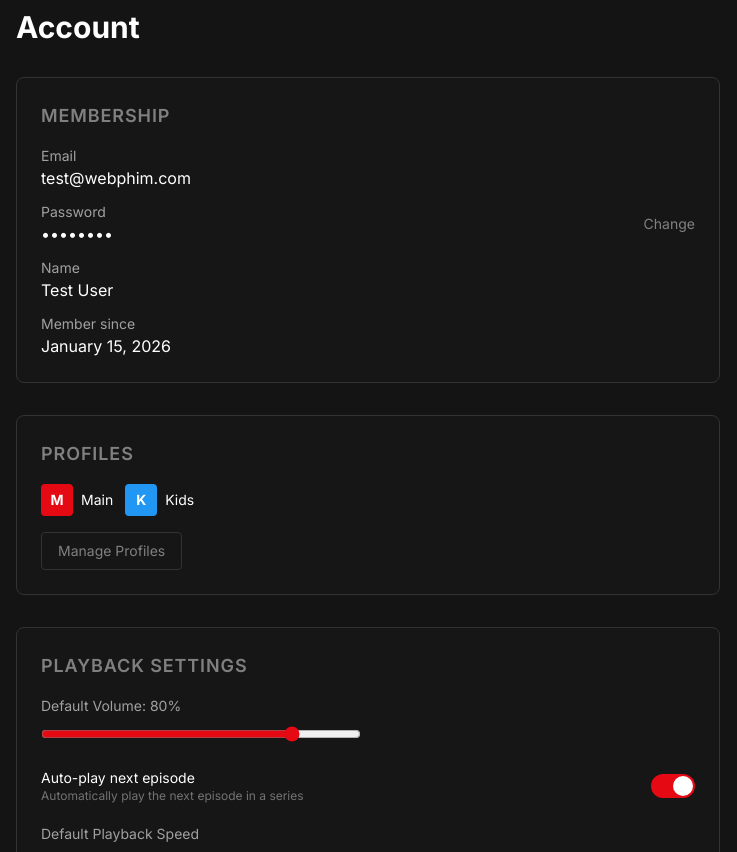
Scenario: AccountPage › shows API error message on failure
Click the button with test id "change-password-toggle" at (669, 224), box [644, 214, 695, 234]
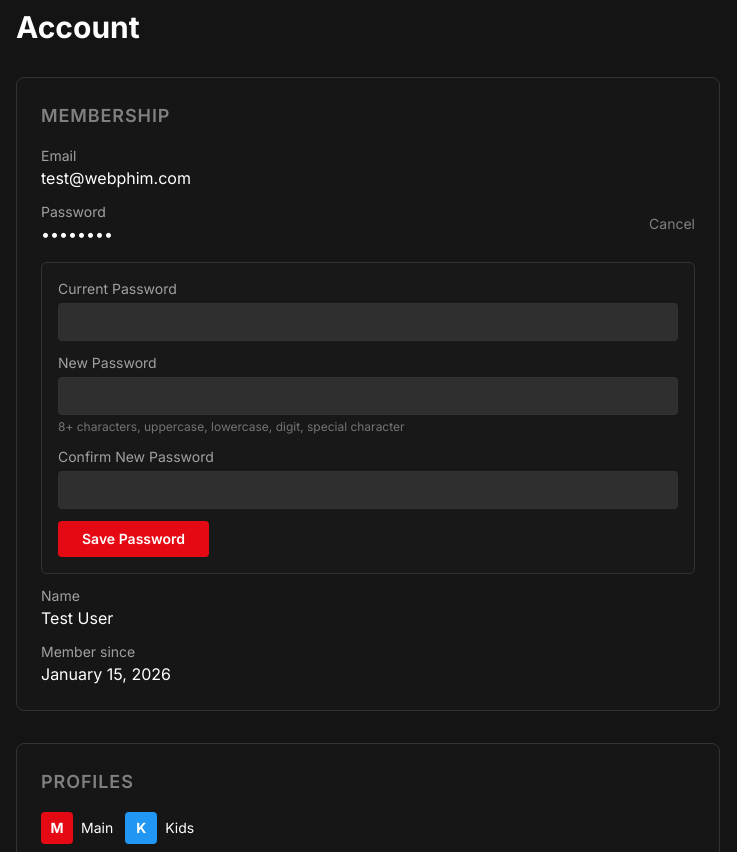
Type "Wrong@123" into the password field with test id "current-password-input" at (368, 322), box [58, 303, 678, 341]
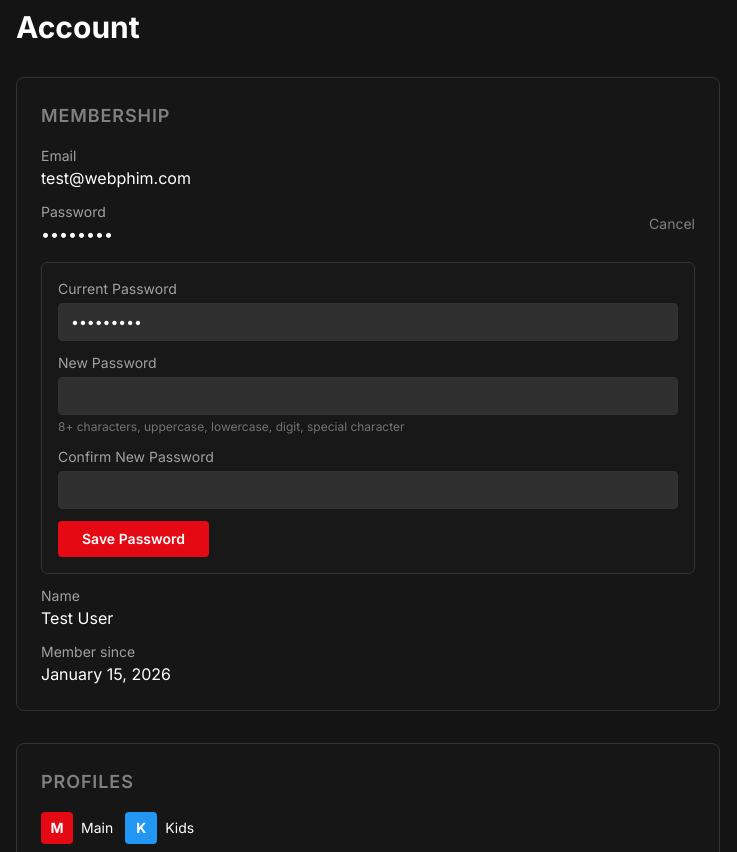
Type "NewPass@1" into the password field with test id "new-password-input" at (368, 396), box [58, 377, 678, 415]
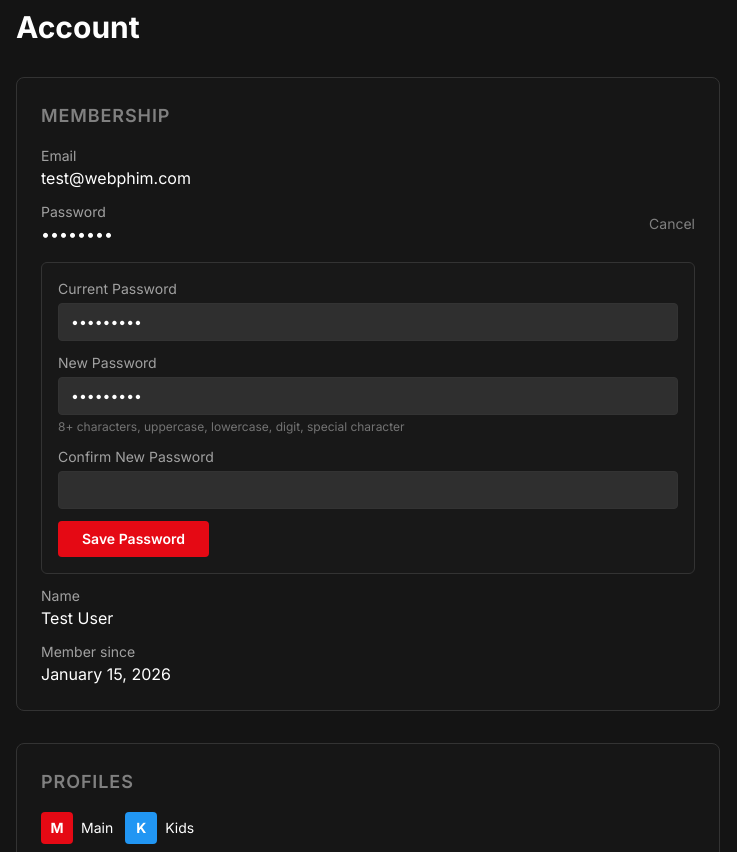
Type "NewPass@1" into the password field with test id "confirm-password-input" at (368, 490), box [58, 471, 678, 509]
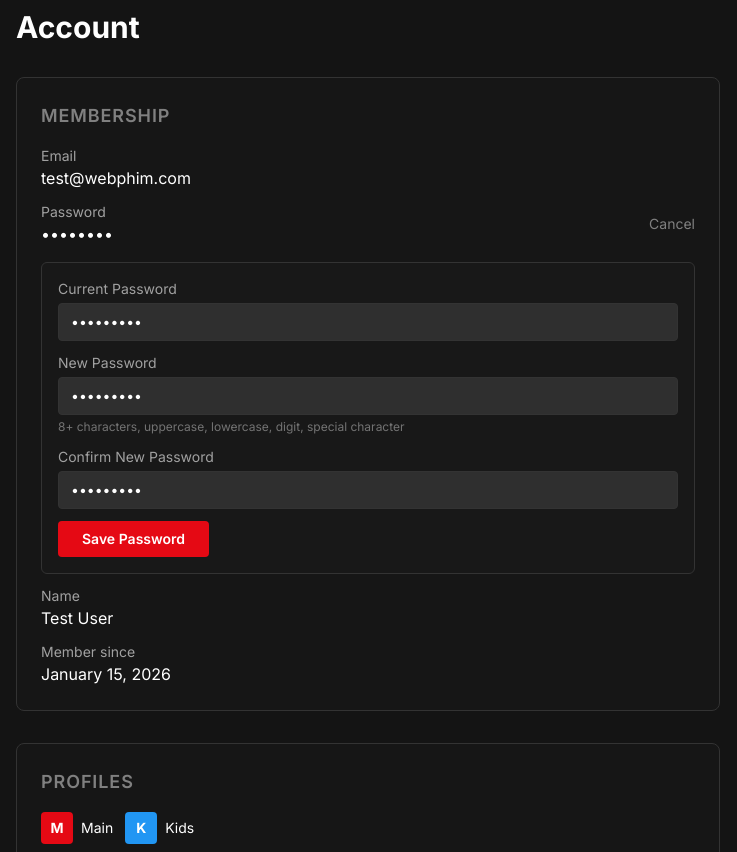
Click the button with test id "submit-password" at (134, 539), box [58, 521, 209, 557]
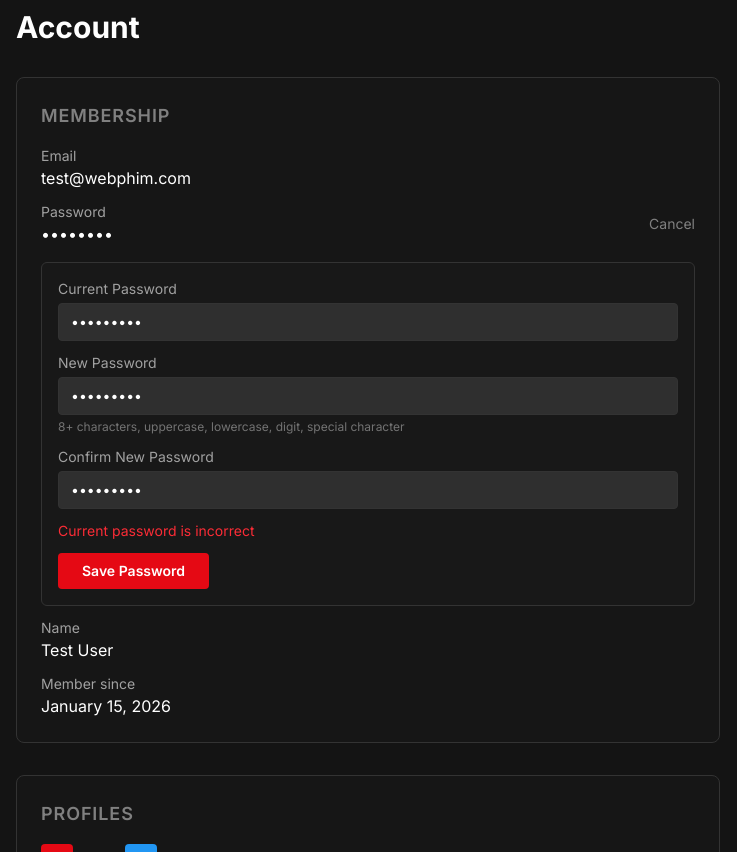
Expected: the message with test id "password-error" reads "Current password is incorrect", [58, 522, 254, 539]
